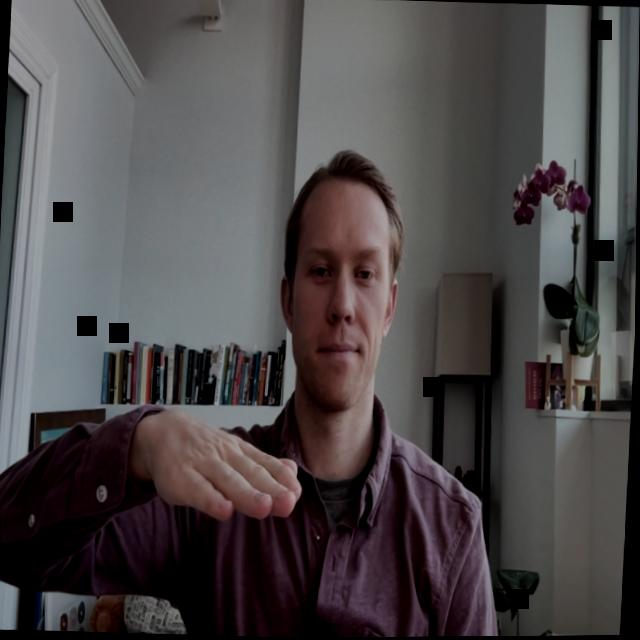Paper: (139, 397, 310, 551)
